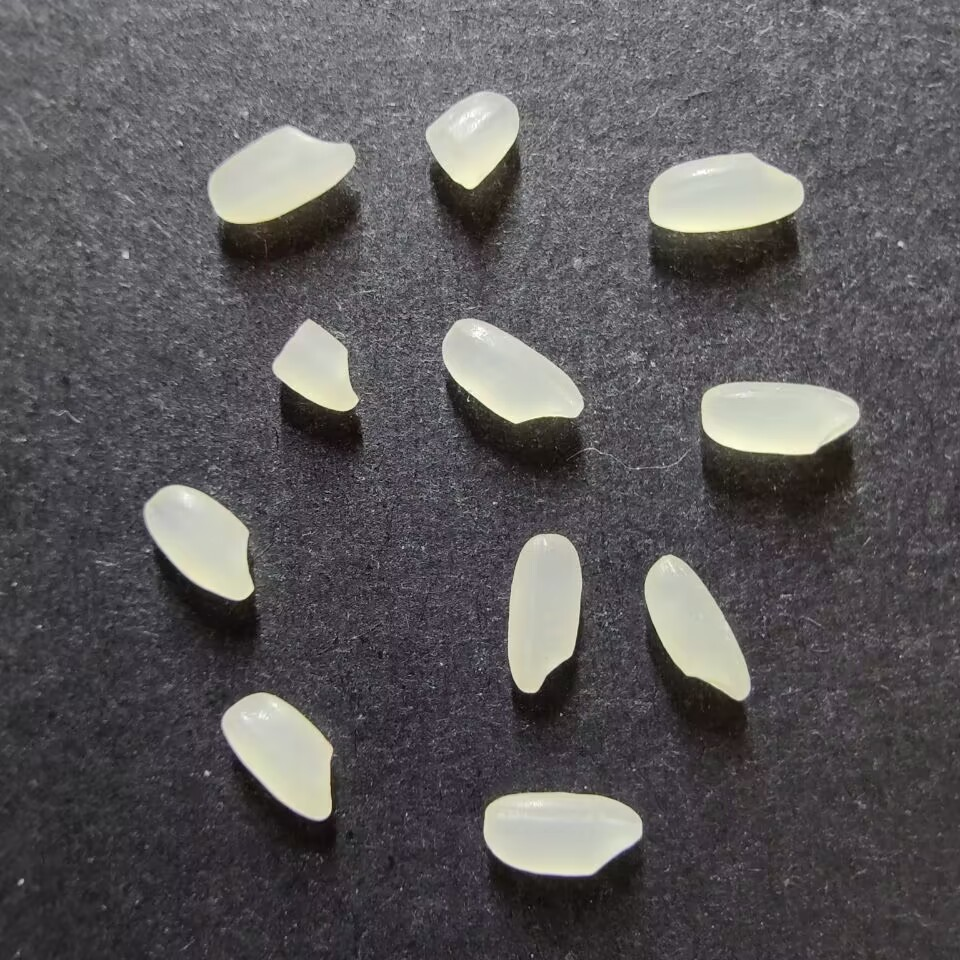broken: (424, 91, 520, 189), (271, 318, 359, 412)
rice: (642, 554, 752, 701), (440, 318, 585, 426), (220, 691, 334, 822), (207, 124, 355, 224), (481, 791, 643, 877), (142, 484, 256, 602), (647, 152, 804, 234), (505, 532, 582, 695), (699, 380, 860, 456)
